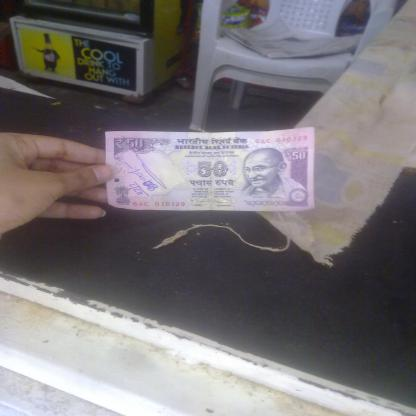Old50Front: (104, 126, 316, 212)
